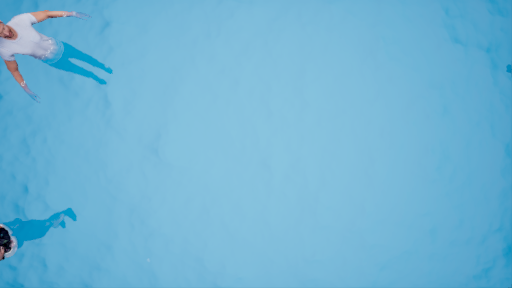person: (4, 12, 102, 101)
